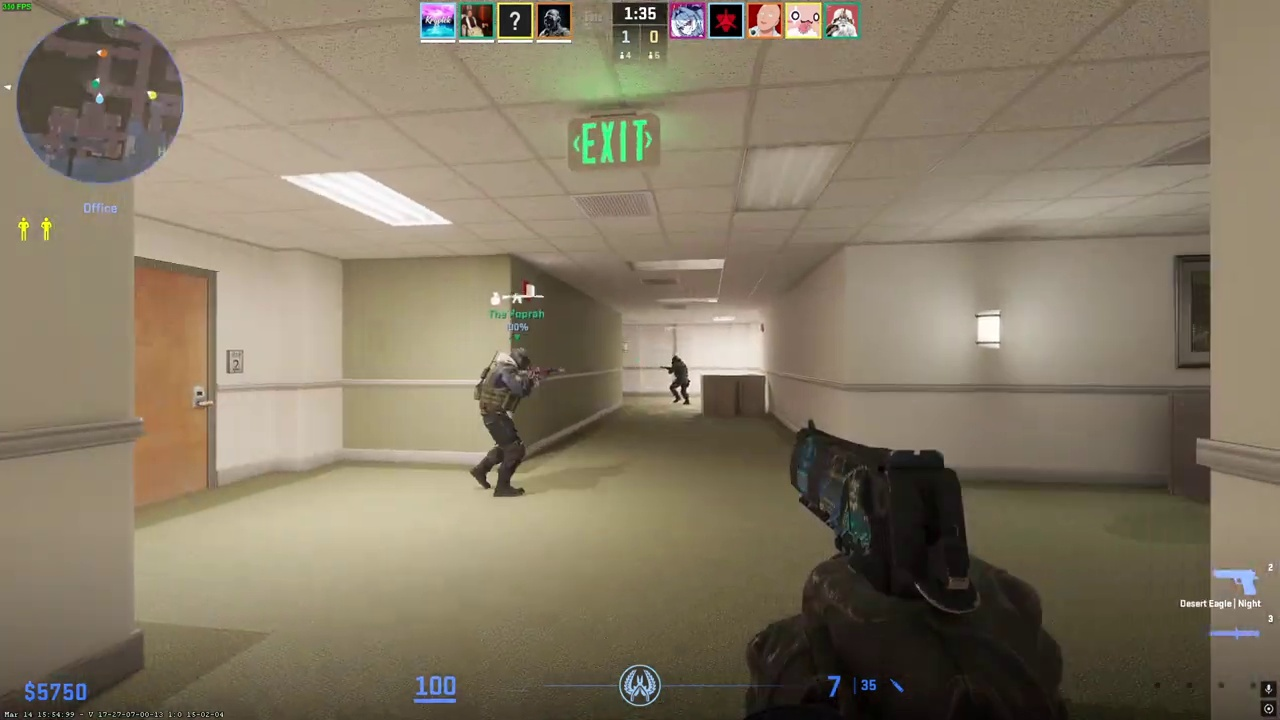CT: (470, 347, 538, 496), (668, 355, 690, 405)
